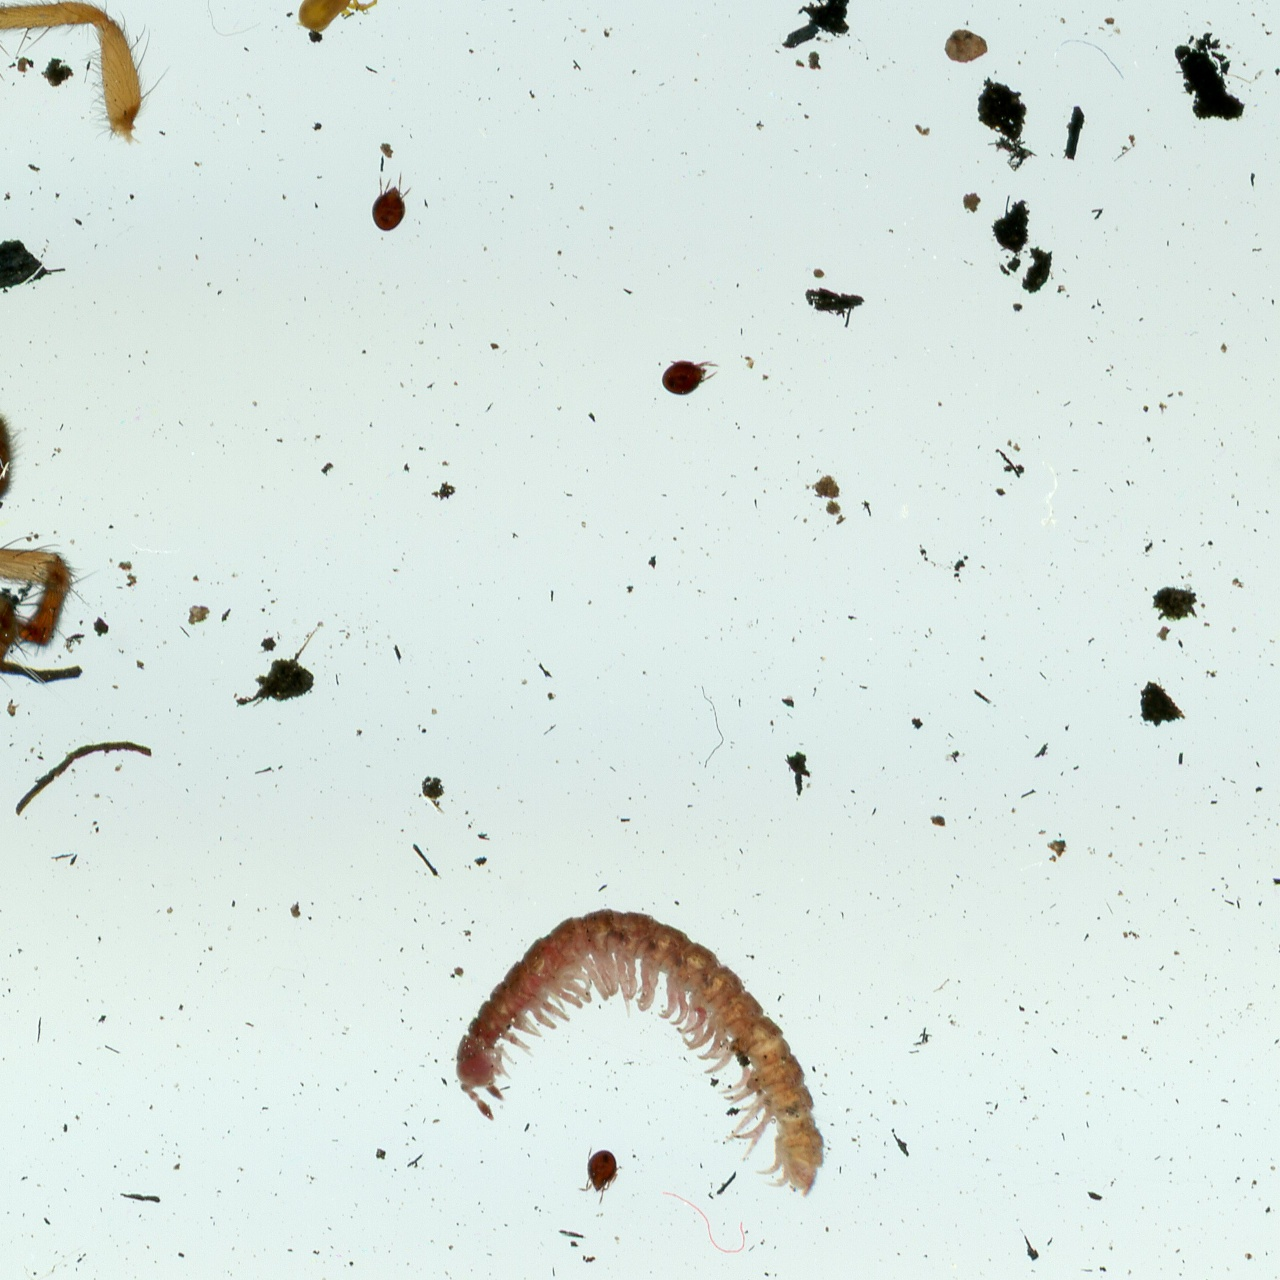arthropod: (449, 905, 828, 1201), (0, 268, 104, 786), (293, 0, 383, 37), (573, 1145, 622, 1207), (369, 170, 415, 235), (659, 353, 722, 400)
